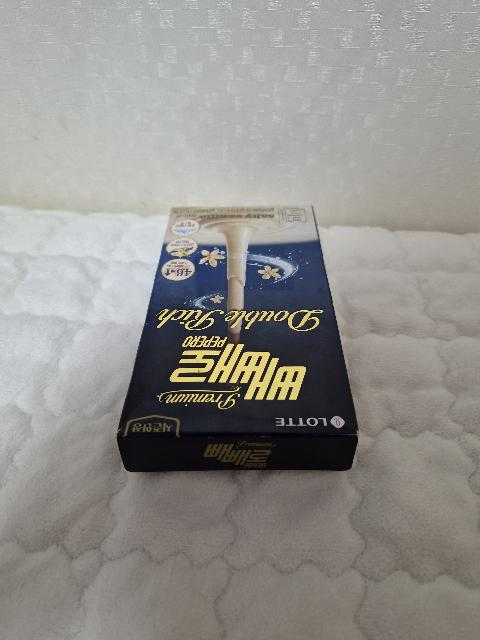pepero: (116, 206, 359, 472)
